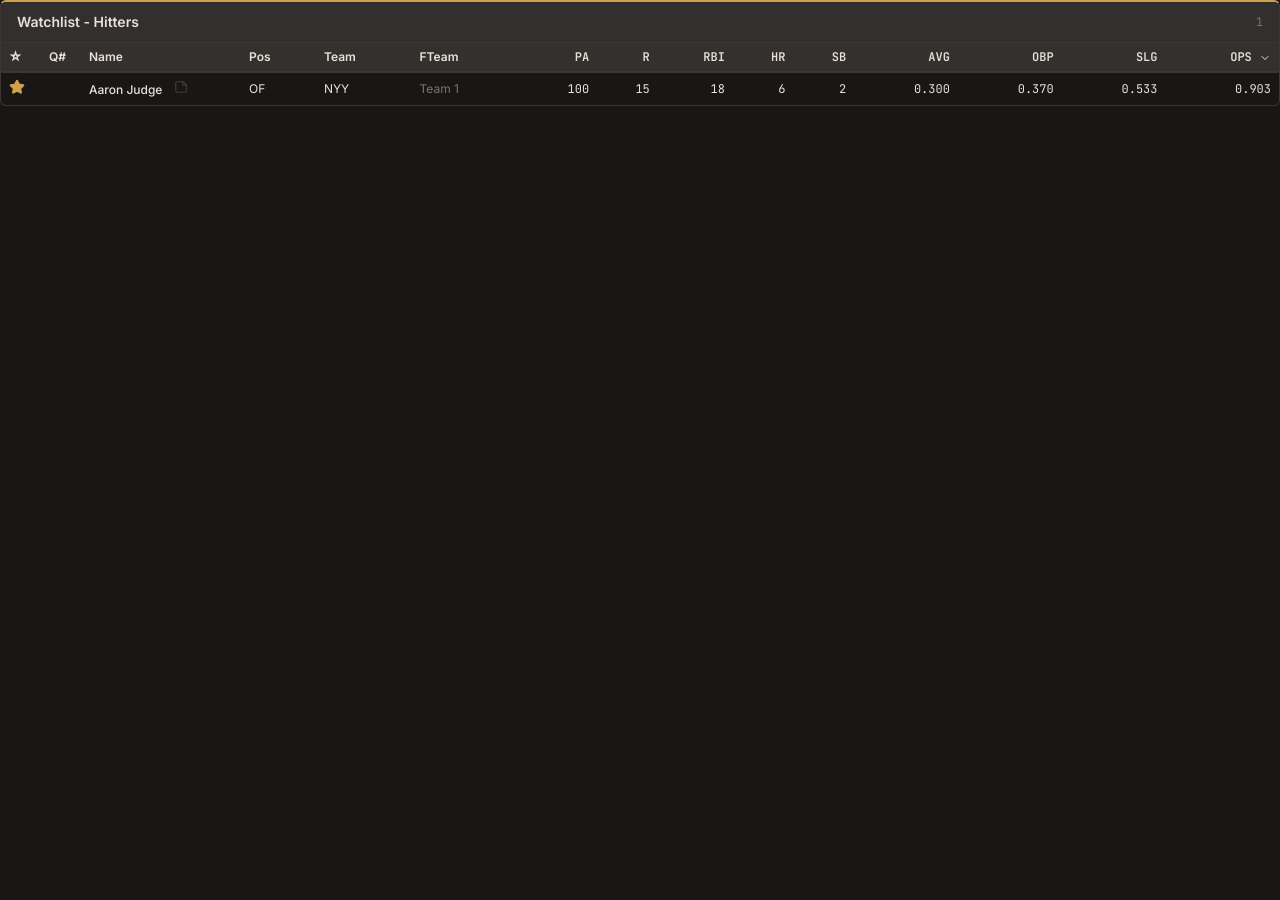
Test case: WatchlistTable › should open confirm dialog when star button clicked
Step 1. Click the button named "Remove Aaron Judge from watchlist" → [17, 87], box [9,79,25,95]
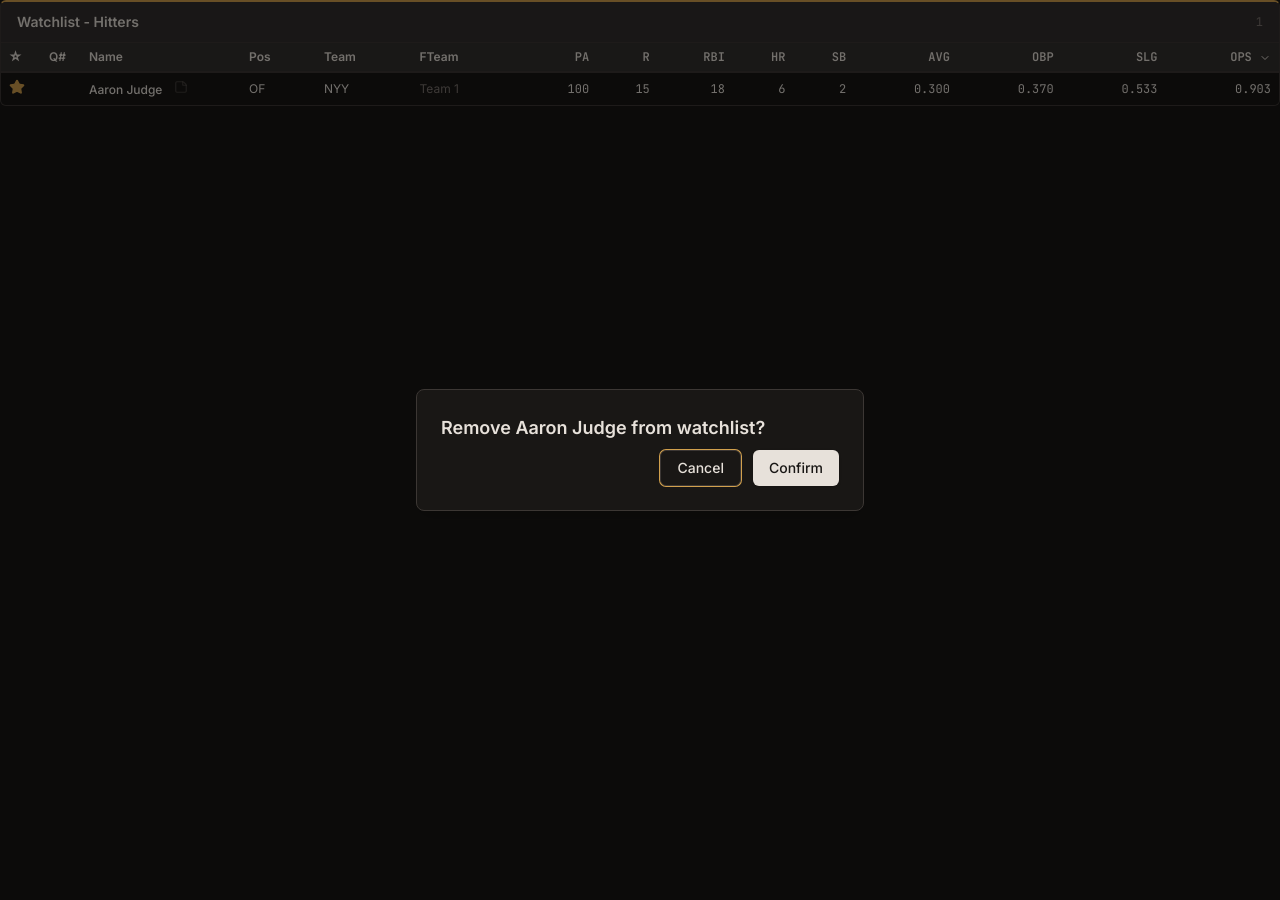
Expected: the heading "Remove Aaron Judge from watchlist?" is shown, [441,417,765,438]
